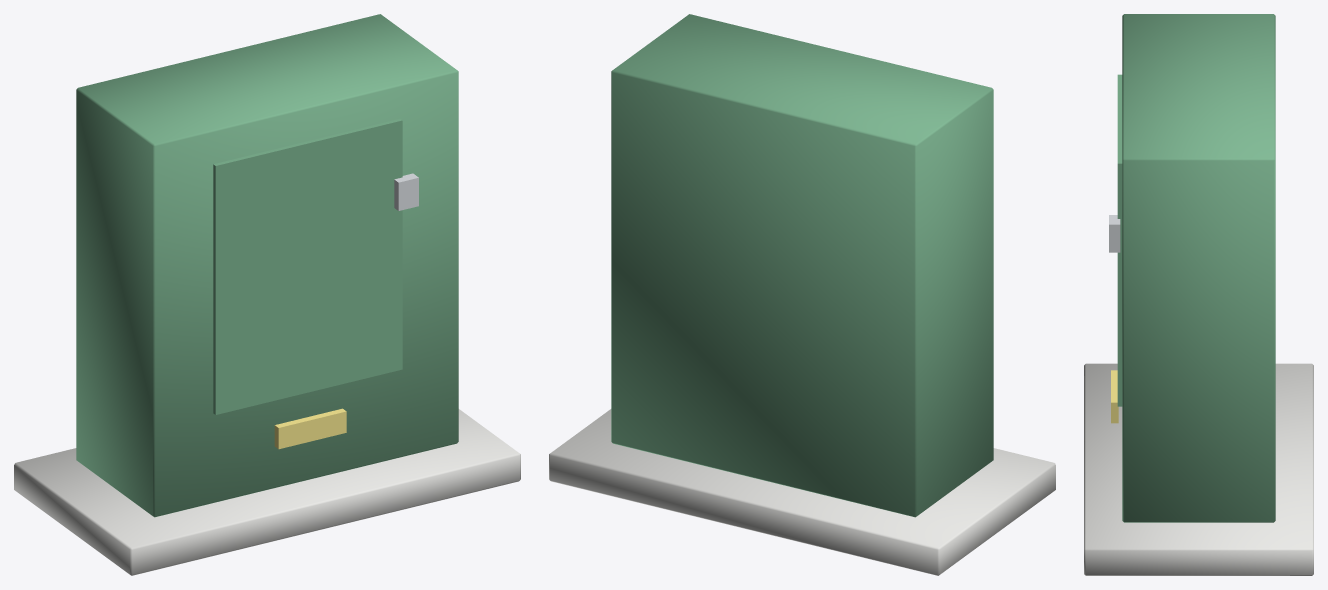
Rendered from ElectricalBox.fbx.
3 renders of one model, left to right at view 1: azimuth 30°, elevation 25°; view 2: azimuth 150°, elevation 25°; view 3: azimuth 270°, elevation 25°, orthographic. The views are drawn at different scales.
Visible parts, largest first — view 1: LOD0; view 2: LOD0; view 3: LOD0.
Boxes of the visible parts, <box> form: LOD0: <box>14,14,520,575</box>; LOD0: <box>549,14,1055,575</box>; LOD0: <box>1084,14,1313,575</box>.
Size of what is drawn, in the model's own units: 115 by 114 by 60.
